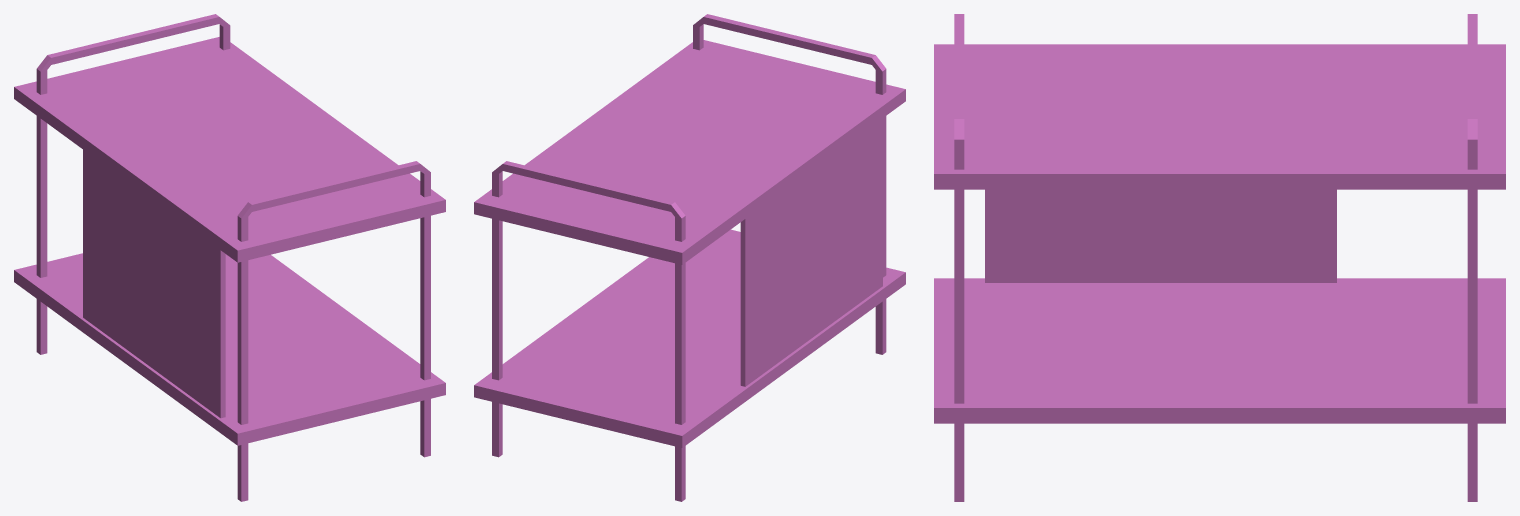
The model's file is IronCart.fbx.
3 renders of one model, left to right at view 1: azimuth 30°, elevation 25°; view 2: azimuth 150°, elevation 25°; view 3: azimuth 270°, elevation 25°, orthographic. The views are drawn at different scales.
Parts seen in each view (by area): view 1: IronCart; view 2: IronCart; view 3: IronCart.
Part boxes in pixels (left/top/right/bottom): IronCart: left=14, top=14, right=445, bottom=501; IronCart: left=474, top=14, right=905, bottom=501; IronCart: left=934, top=14, right=1505, bottom=501.
Size of the model in its own units: 64.54 by 87.26 by 120.
